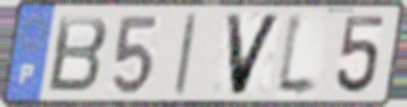5: (107, 13, 163, 97), (335, 14, 388, 96)
B: (45, 14, 111, 96)
I: (171, 11, 200, 99)
L: (272, 8, 323, 101)
V: (222, 11, 285, 98)
